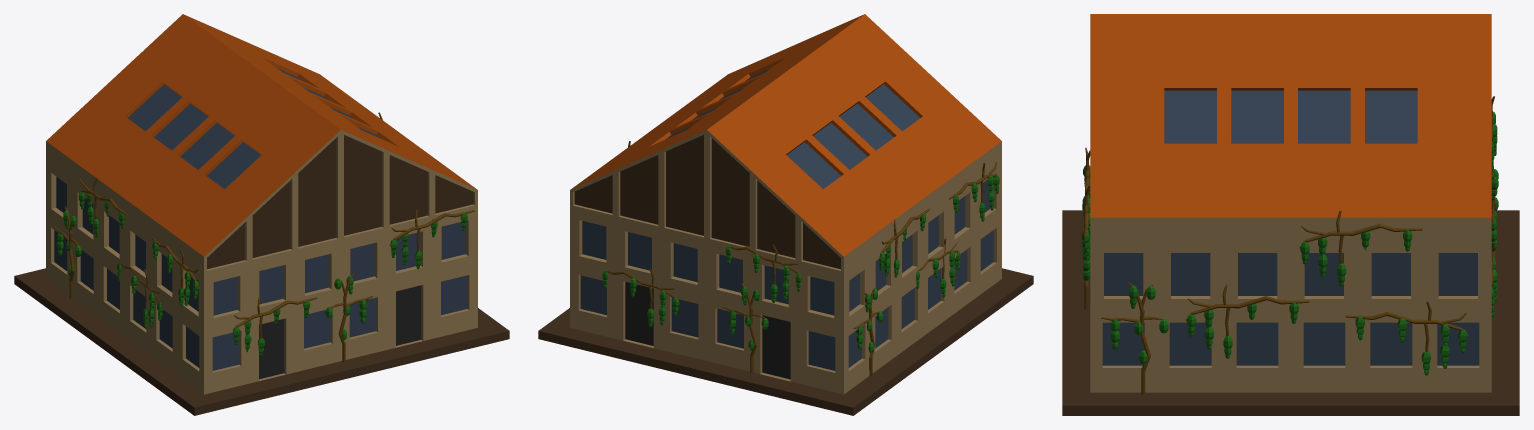
File: building2_stage2.fbx
3 views of the same model, side by side, from view 1: azimuth 30°, elevation 25°; view 2: azimuth 150°, elevation 25°; view 3: azimuth 270°, elevation 25° (orthographic). The views are drawn at different scales.
Visible parts, largest first — view 1: Building2_Stage2; view 2: Building2_Stage2; view 3: Building2_Stage2.
Boxes of the visible parts, x1,y1,x2,y2 form: Building2_Stage2: (14, 14, 509, 415); Building2_Stage2: (538, 14, 1033, 415); Building2_Stage2: (1062, 14, 1519, 415).
Size of the model in its own units: 615 by 447 by 609.
